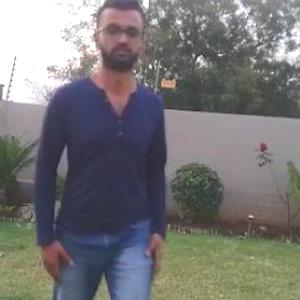follow: (56, 5, 171, 299)
